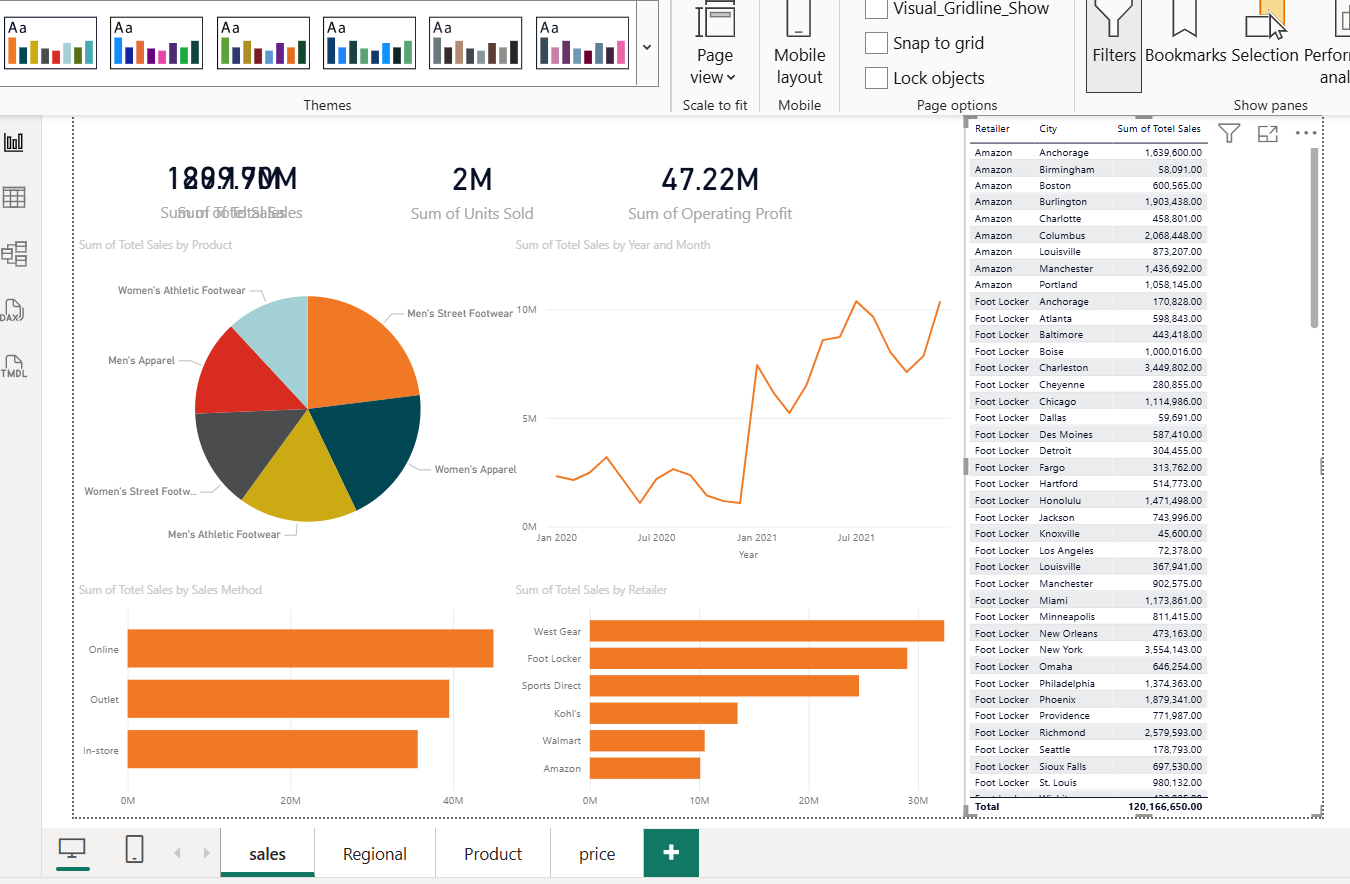

This screenshot's page, from the dashboard's own definition file:
{"tool":"powerbi","page":{"name":"sales","canvas":[1280,720],"ordinal":0},"visuals":[{"type":"card","fields":{"Values":["Sum(Table1.Total Sales)"]},"box":[11.8,0,317.5,145],"z":0},{"type":"card","fields":{"Values":["Sum(Data Sales Adidas.Totel Sales)"]},"box":[0,0,305.7,145],"z":1000},{"type":"card","fields":{"Values":["Sum(Data Sales Adidas.Units Sold)"]},"box":[255.5,1.4,305.7,145],"z":2000},{"type":"card","fields":{"Values":["Sum(Data Sales Adidas.Operating Profit)"]},"box":[499.5,1.4,305.7,145],"z":3000},{"type":"pieChart","fields":{"Y":["Sum(Data Sales Adidas.Totel Sales)"],"Category":["Data Sales Adidas.Product"]},"box":[0,124.9,479.4,337.3],"z":4000},{"type":"barChart","fields":{"Category":["Data Sales Adidas.Sales Method"],"Y":["Sum(Data Sales Adidas.Totel Sales)"]},"box":[0,478,488,242.6],"z":5000},{"type":"lineChart","fields":{"Category":["Data Sales Adidas.Invoice Date.Variation.Date Hierarchy.Year","Data Sales Adidas.Invoice Date.Variation.Date Hierarchy.Month"],"Y":["Sum(Data Sales Adidas.Totel Sales)"]},"box":[447.9,124.9,465.1,337.3],"z":6000},{"type":"barChart","fields":{"Category":["Data Sales Adidas.Retailer"],"Y":["Sum(Data Sales Adidas.Totel Sales)"]},"box":[447.9,478,489.5,242.6],"z":7000},{"type":"tableEx","fields":{"Values":["Data Sales Adidas.Retailer","Data Sales Adidas.City","Sum(Data Sales Adidas.Totel Sales)"]},"box":[913.3,0,368.4,721.2],"z":8000}]}

Visuals, with their boxes on the page's 1280x720 design canvas (x1, y1, x2, y2). These are canvas units, not pixel positions in the 1350x884 screenshot, which may show the page scaled, cropped or inside an application window:
card - Sum(Table1.Total Sales): BBox(12, 0, 329, 145)
card - Sum(Data Sales Adidas.Totel Sales): BBox(0, 0, 306, 145)
card - Sum(Data Sales Adidas.Units Sold): BBox(256, 1, 561, 146)
card - Sum(Data Sales Adidas.Operating Profit): BBox(500, 1, 805, 146)
pieChart - Sum(Data Sales Adidas.Totel Sales) x Data Sales Adidas.Product: BBox(0, 125, 479, 462)
barChart - Data Sales Adidas.Sales Method x Sum(Data Sales Adidas.Totel Sales): BBox(0, 478, 488, 721)
lineChart - Data Sales Adidas.Invoice Date.Variation.Date Hierarchy.Year x Data Sales Adidas.Invoice Date.Variation.Date Hierarchy.Month: BBox(448, 125, 913, 462)
barChart - Data Sales Adidas.Retailer x Sum(Data Sales Adidas.Totel Sales): BBox(448, 478, 937, 721)
tableEx - Data Sales Adidas.Retailer x Data Sales Adidas.City: BBox(913, 0, 1282, 721)
